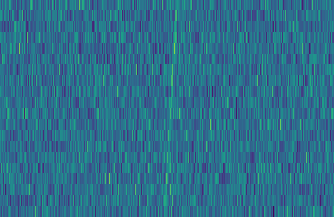signal: (160, 0, 181, 217)
